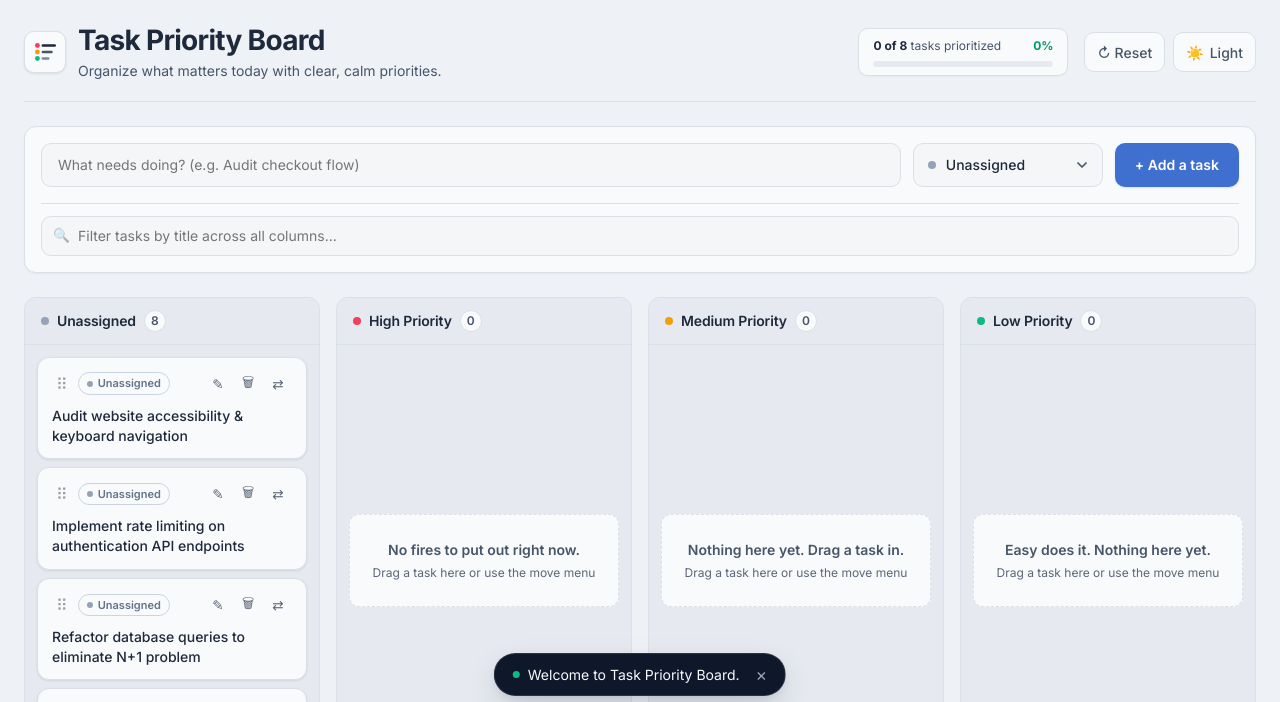
Test case: Task Priority Board Integration Tests › supports undo from toast notification and restores previous state
Note: Move task to High
Click the button named "Move task" at point(278, 384), box [264, 370, 292, 398]
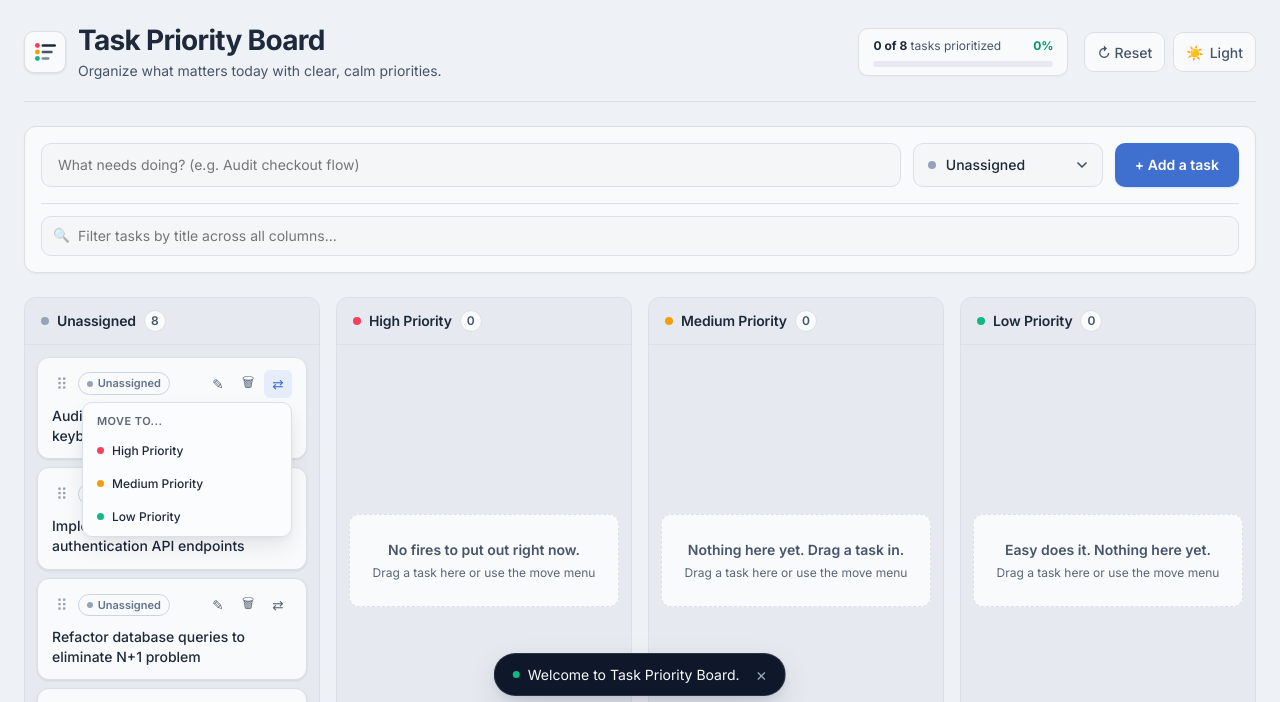
Click the menu item "High Priority" at point(187, 451), box [87, 435, 287, 466]
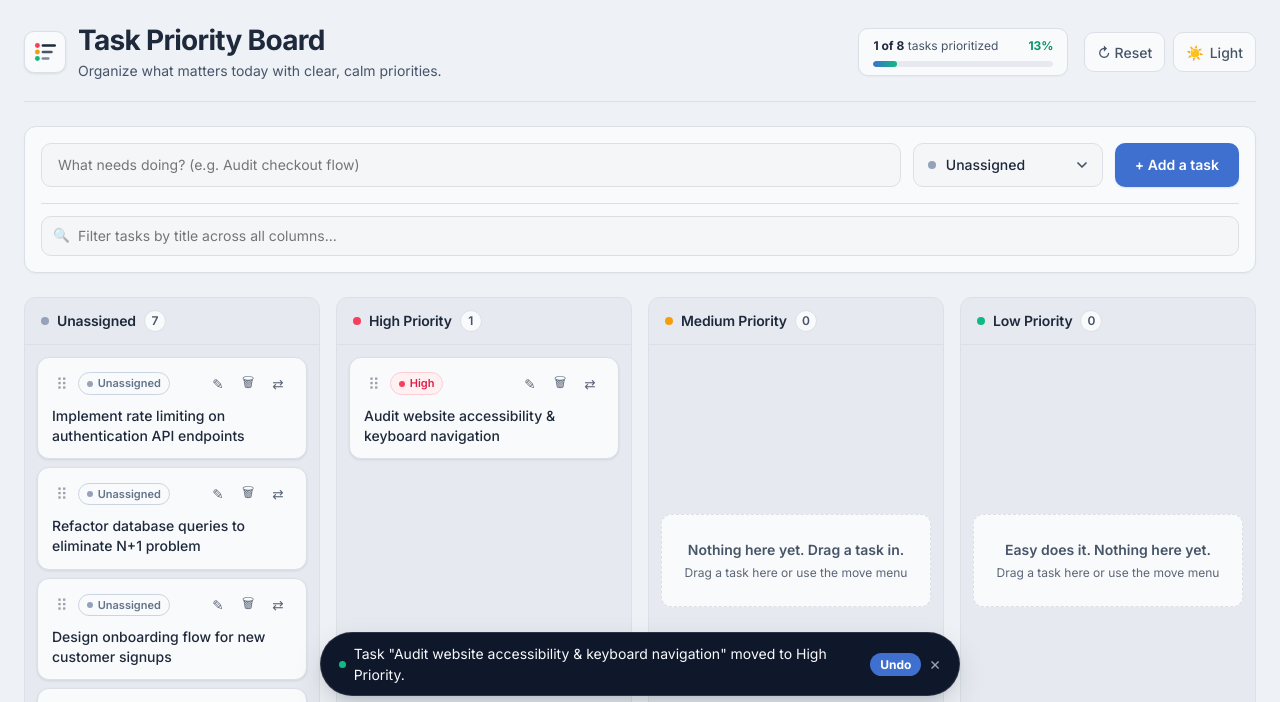
Result: the message named "Action feedback" shows "moved to High Priority" at [354, 645, 827, 683]
Result: the button "Undo" is shown
Note: Click Undo
Click the button "Undo" at point(896, 664), box [870, 652, 921, 676]
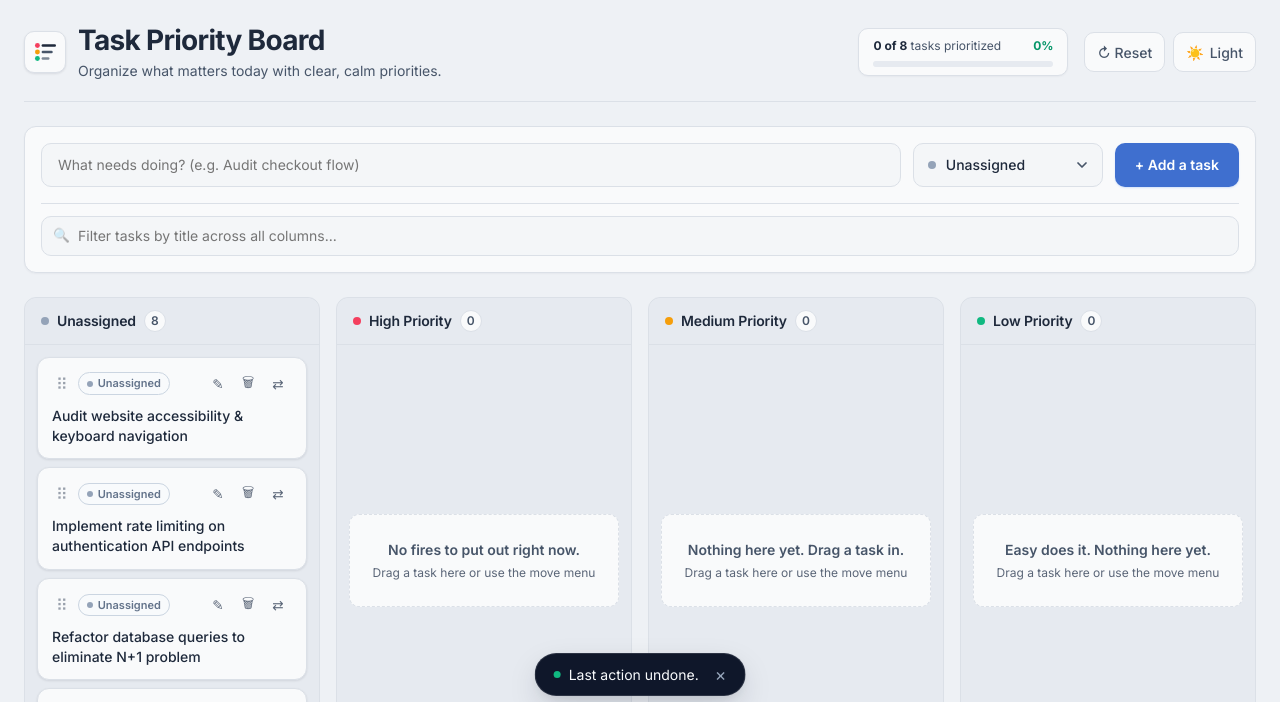
Result: the text "0" next to "High Priority" is shown at [467, 313, 475, 328]
